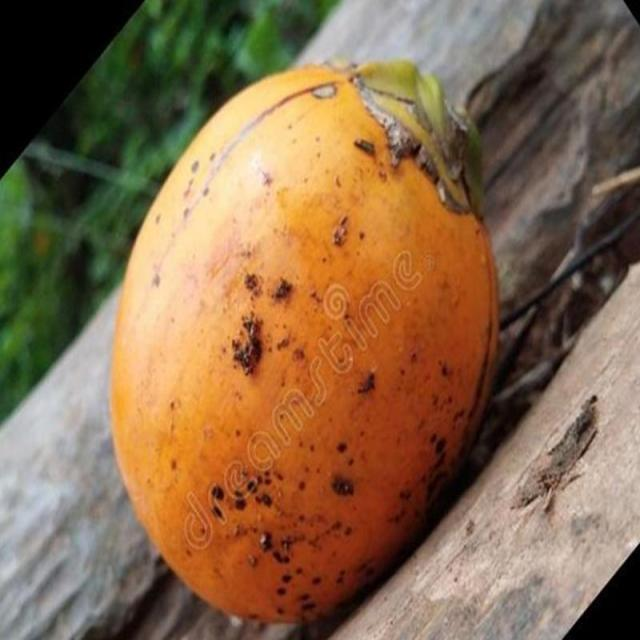good: (106, 59, 501, 630)
